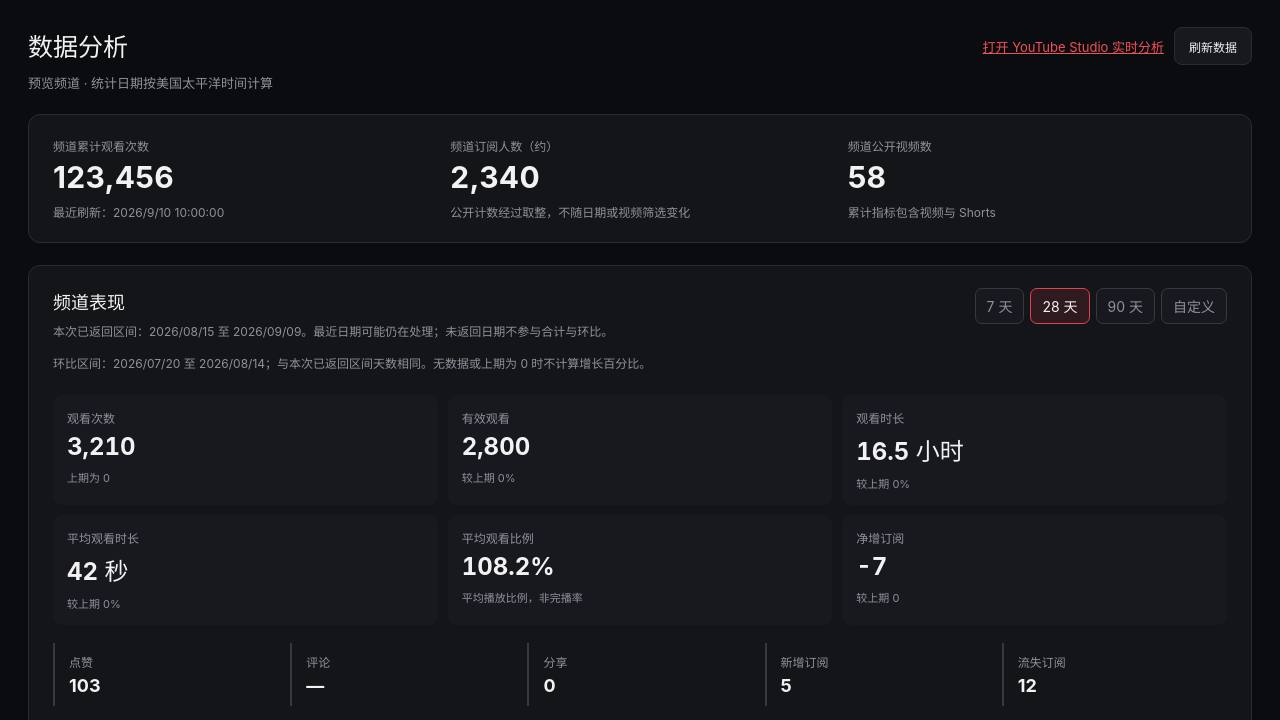
Test: keeps previous data visible while refreshing and on refresh failure
expect the text "123,456" is shown: met, box [53,159,174,195]
Click the button "刷新数据".
click(1213, 46)  # box [1174,27,1252,65]
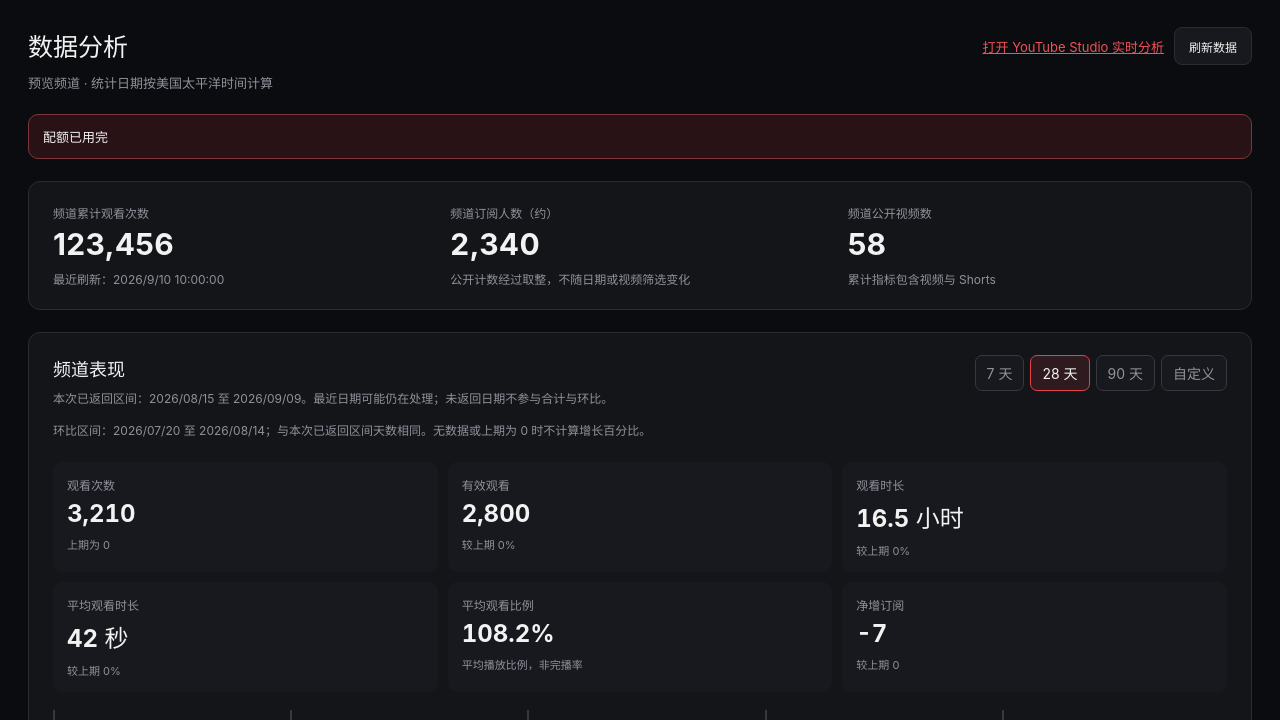
expect the text "3,210" is shown: met, box [67,499,136,528]
expect the message reads "配额已用完": met, box [43,129,108,145]
